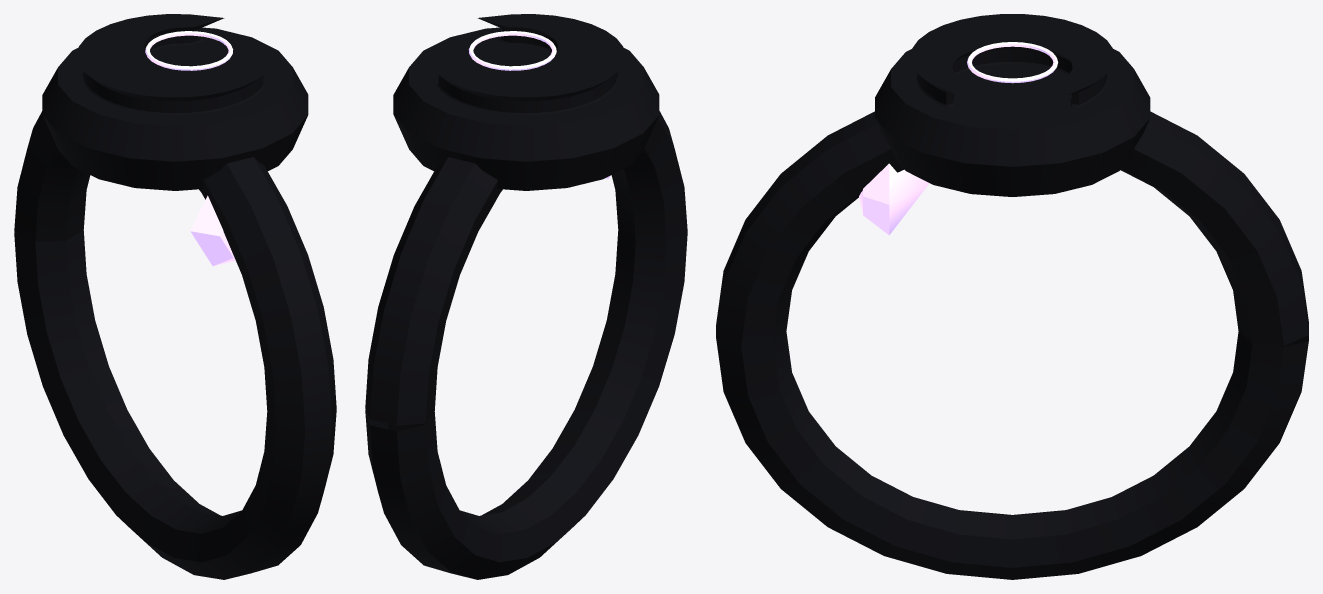
The model's file is esc_void_unwritten_accessory.glb.
3 renders of one model, left to right at view 1: azimuth 30°, elevation 25°; view 2: azimuth 150°, elevation 25°; view 3: azimuth 270°, elevation 25°, orthographic. The views are drawn at different scales.
Visible parts, largest first — view 1: esc_void_unwritten_accessory; view 2: esc_void_unwritten_accessory; view 3: esc_void_unwritten_accessory.
Boxes of the visible parts, bbox=[...] form: esc_void_unwritten_accessory: bbox=[14, 14, 336, 579]; esc_void_unwritten_accessory: bbox=[365, 14, 687, 579]; esc_void_unwritten_accessory: bbox=[716, 14, 1308, 579].
Size of the model in its own units: 0.068 by 0.1395 by 0.1442.
